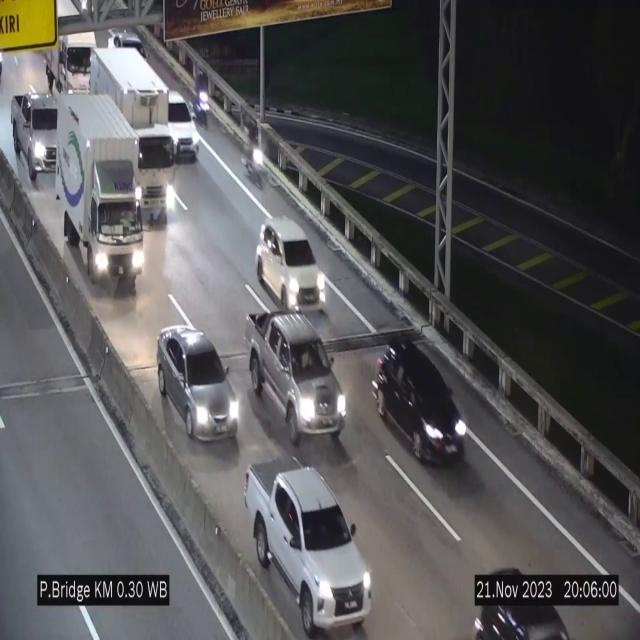Car: (239, 462, 376, 635), (245, 312, 347, 446), (372, 332, 471, 468), (157, 325, 241, 442), (458, 554, 572, 640), (256, 216, 324, 311), (12, 92, 74, 176), (166, 80, 200, 177)
Motorcycle: (245, 112, 269, 199), (194, 63, 209, 132)
Truck: (56, 93, 140, 283), (88, 52, 178, 214), (35, 5, 101, 106)
